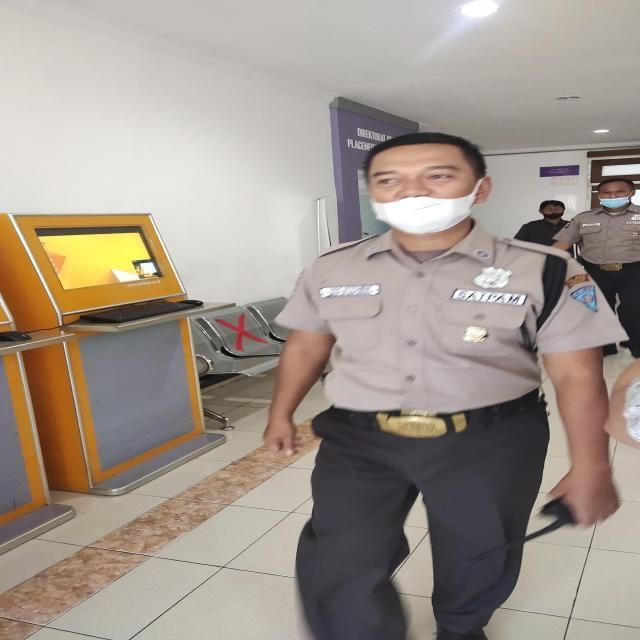hairnet: (361, 130, 493, 236), (596, 180, 636, 210), (538, 200, 566, 220)
